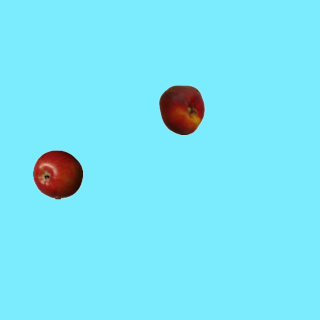Apple Braeburn: (32, 149, 82, 199)
Nectarine Flat: (156, 84, 206, 134)
